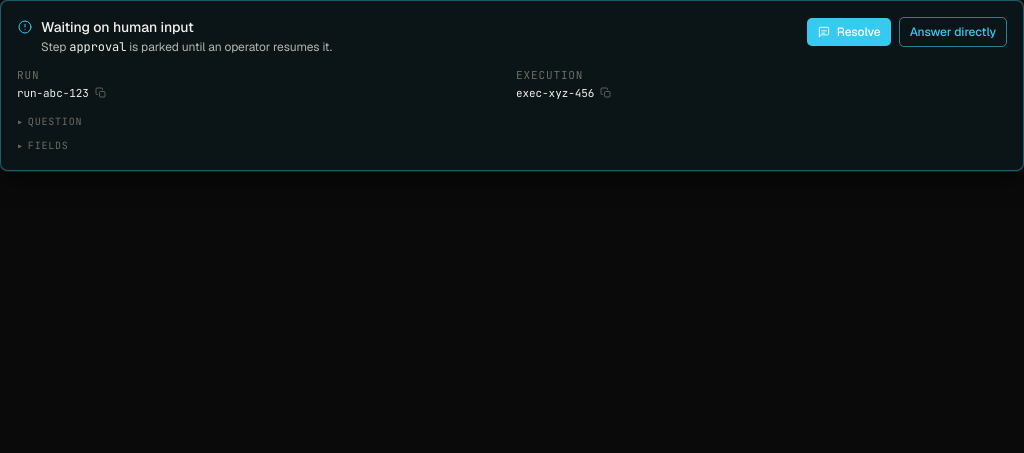
Test: HumanInputGate › answering directly › keeps the form open and shows why a submission failed
Click the button with test id "human-input-gate-answer-directly": x=953, y=32 [899,17,1007,47]
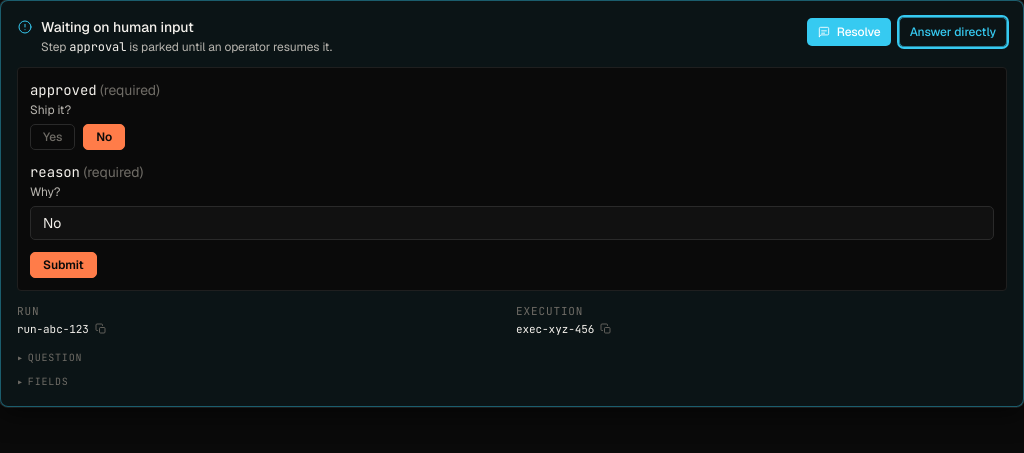
Click the button with test id "human-input-gate-answer-form-submit": x=63, y=265 [30,252,96,278]
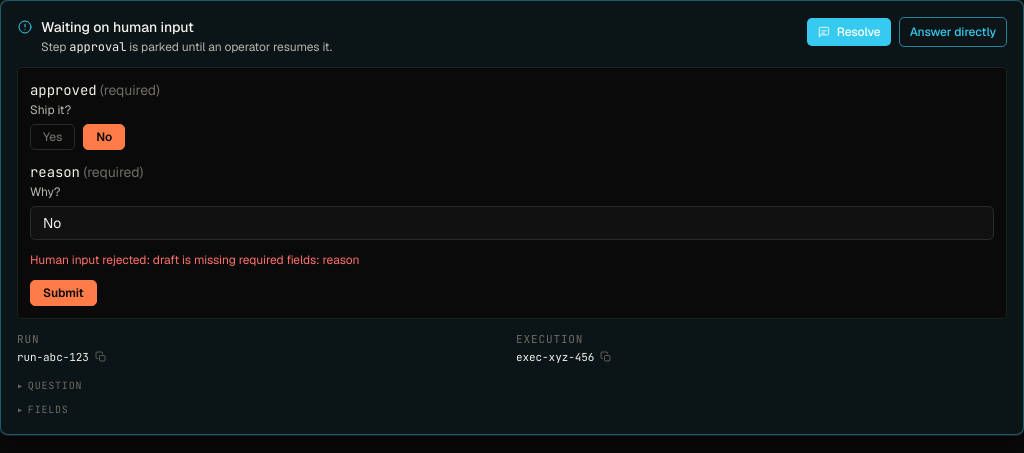
Expected: the element with test id "human-input-gate-direct-answer" is shown, [17,67,1007,319]
Expected: the message with test id "human-input-gate-answer-form-error" shows "draft is missing required fields: reason", [30,252,359,268]
